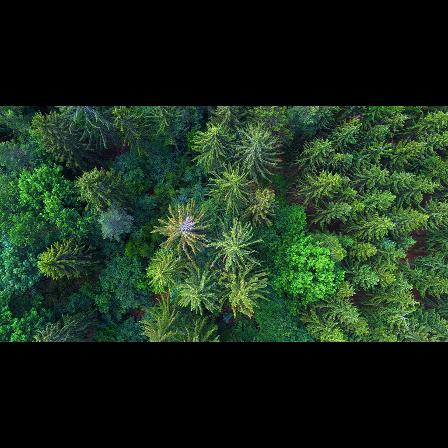Sick: (161, 209, 204, 248)
